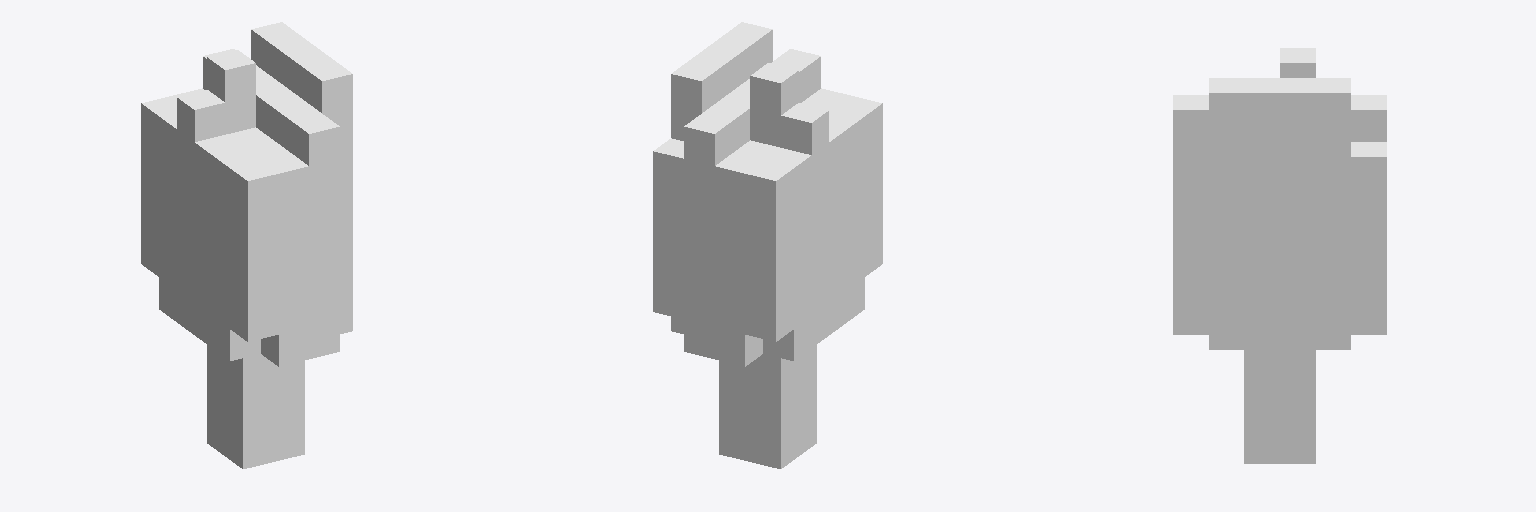
Rendered from Arm-11.obj.
3 views of the same model, side by side, from view 1: azimuth 30°, elevation 25°; view 2: azimuth 150°, elevation 25°; view 3: azimuth 270°, elevation 25° (orthographic).
Parts seen in each view (by area): view 1: object 1; view 2: object 1; view 3: object 1.
Part boxes in pixels (bbox=[...]): object 1: bbox=[141, 22, 352, 468]; object 1: bbox=[653, 22, 882, 468]; object 1: bbox=[1173, 48, 1386, 463].
Size of the model in its own units: 0.4 by 1.2 by 0.6.